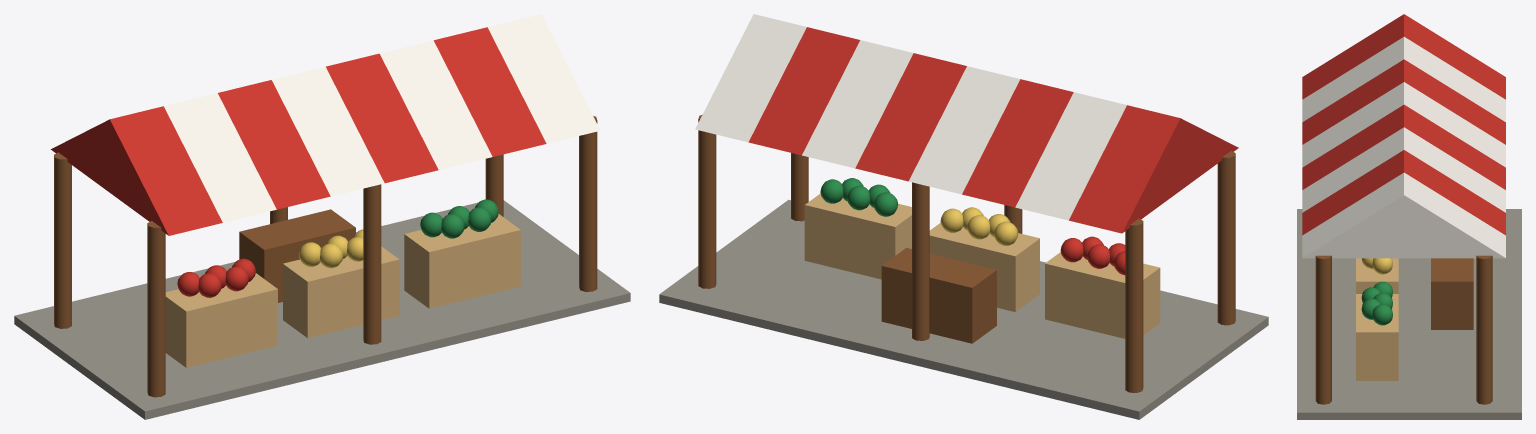
Rendered from market.glb.
3 views of the same model, side by side, from view 1: azimuth 30°, elevation 25°; view 2: azimuth 150°, elevation 25°; view 3: azimuth 270°, elevation 25° (orthographic). The views are drawn at different scales.
Parts seen in each view (by area): view 1: red, stone, white, wood, darkWood, green, hay; view 2: stone, red, white, darkWood, wood, green, hay; view 3: white, stone, red, darkWood, wood, green, hay.
Part boxes in pixels (box(x1,y1,x2,y2)): red: box(51, 27, 546, 297); stone: box(14, 200, 630, 419); white: box(164, 14, 600, 222); wood: box(165, 214, 520, 367); darkWood: box(54, 116, 597, 397); green: box(420, 199, 498, 238); hay: box(298, 229, 363, 268); stone: box(659, 199, 1268, 419); red: box(748, 27, 1238, 275); white: box(695, 14, 1126, 220); darkWood: box(698, 114, 1235, 392); wood: box(804, 193, 1160, 338); green: box(820, 178, 898, 216); hay: box(940, 207, 1018, 245); white: box(1302, 37, 1505, 258); stone: box(1297, 209, 1521, 419); red: box(1302, 14, 1505, 235); darkWood: box(1315, 255, 1492, 404); wood: box(1356, 258, 1398, 380); green: box(1361, 281, 1392, 325); hay: box(1361, 258, 1392, 274).
Size of the model in its own units: 180 by 88 by 84.
